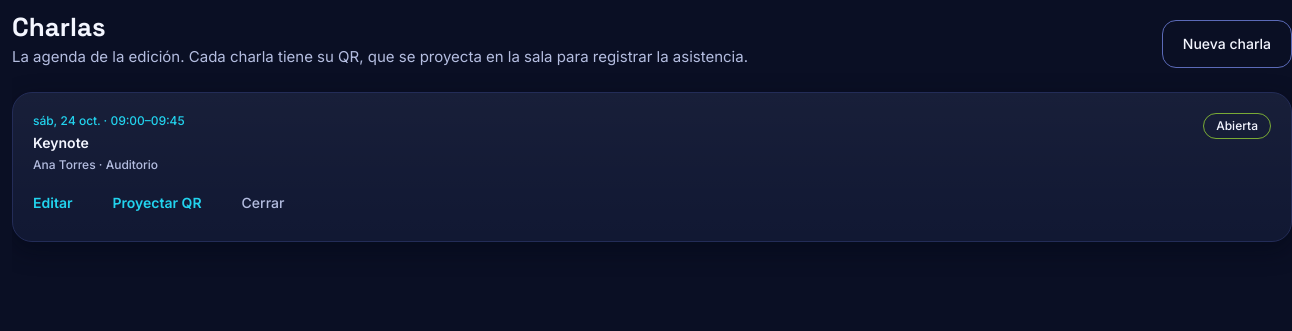
Test: TalksAdminView › explains a refusal, and treats a thrown action as unknown
Click the button "Cerrar" at (263, 203), box x1=226 y1=185 x2=300 y2=221
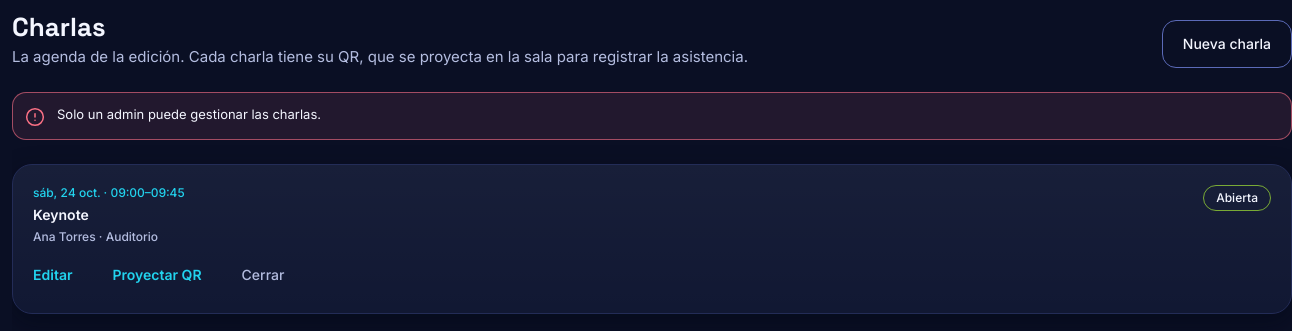
Expected: the message reads "Solo un admin puede gestionar las charlas.", x1=57 y1=106 x2=321 y2=122
